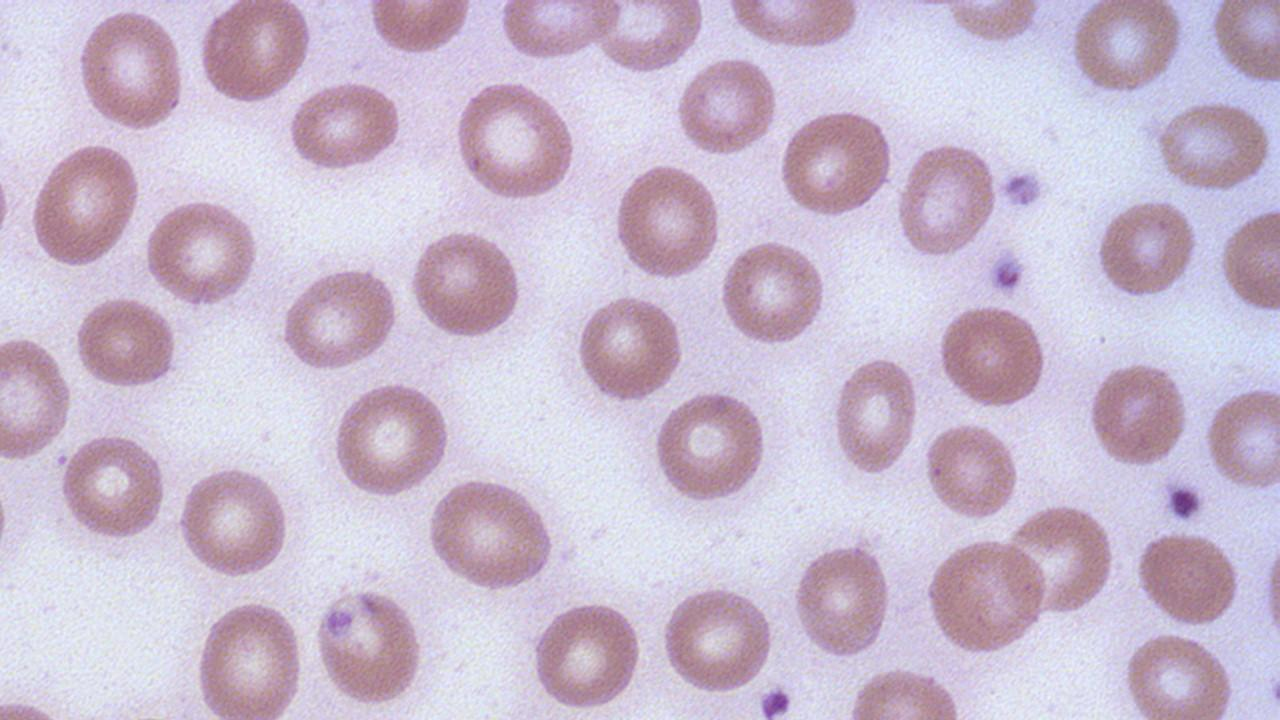Platelets: (1012, 168, 1043, 203), (1169, 488, 1201, 520), (761, 685, 787, 715)
RBC: (454, 77, 578, 204), (424, 476, 559, 592), (26, 139, 144, 271), (310, 580, 429, 708), (922, 535, 1046, 656), (330, 379, 453, 500), (189, 594, 309, 718), (76, 5, 187, 135), (406, 225, 528, 342), (610, 160, 725, 284), (652, 387, 770, 506), (175, 462, 292, 582), (777, 105, 896, 222), (142, 195, 263, 308), (278, 264, 403, 373), (529, 598, 645, 714), (572, 290, 688, 405), (894, 137, 1000, 261), (659, 584, 776, 696), (1005, 502, 1117, 618), (935, 300, 1051, 412), (790, 538, 894, 662), (57, 429, 168, 544), (196, 1, 314, 109), (718, 237, 830, 349), (1085, 358, 1193, 471), (1153, 98, 1275, 193), (829, 352, 920, 478), (1131, 526, 1243, 628), (286, 78, 406, 173), (1092, 197, 1202, 300), (672, 56, 781, 159), (1069, 2, 1185, 96), (1119, 629, 1239, 717), (72, 295, 182, 391), (922, 419, 1021, 523), (0, 330, 74, 462), (1204, 384, 1280, 494), (592, 0, 704, 74), (497, 1, 623, 63), (1216, 204, 1280, 316), (722, 2, 861, 53), (841, 664, 966, 718), (366, 1, 474, 59), (1209, 0, 1279, 87), (939, 1, 1046, 46), (1259, 522, 1279, 660)
